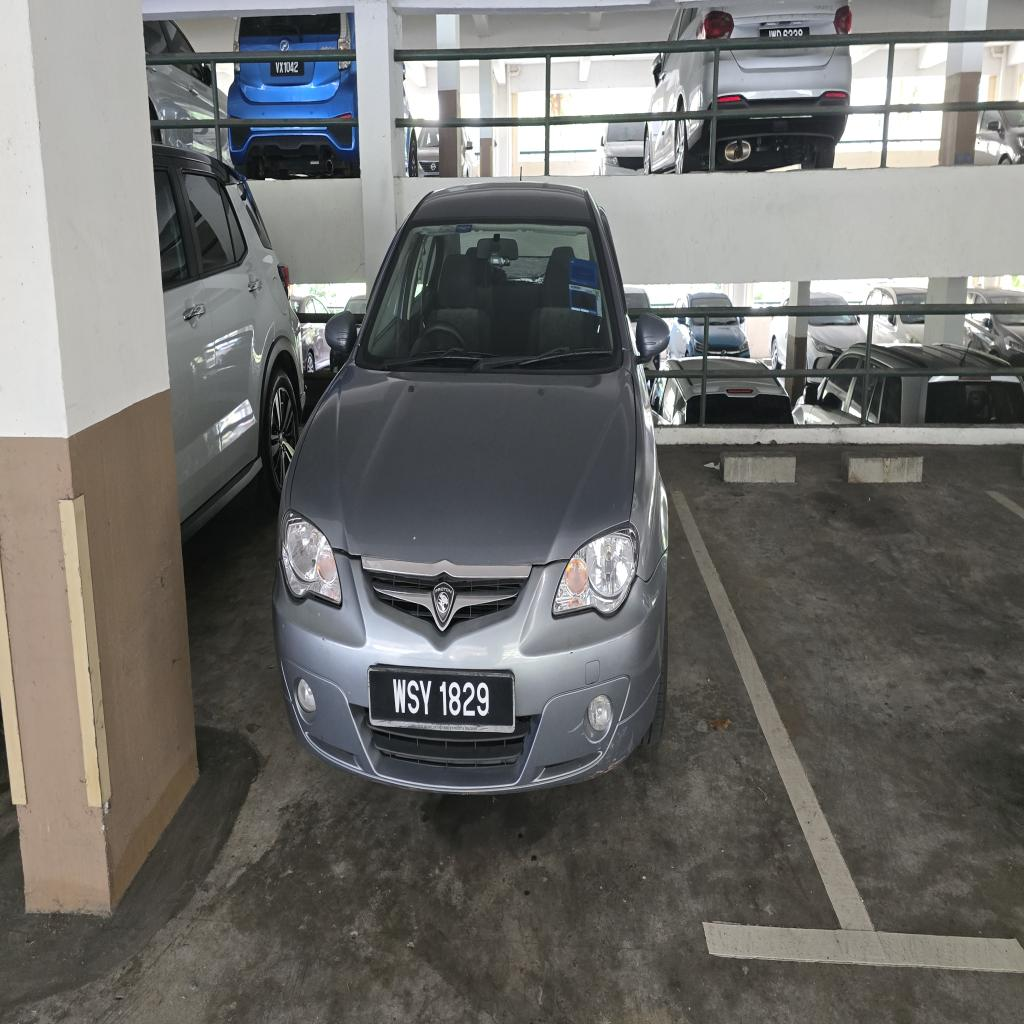car: (274, 183, 667, 792), (228, 13, 358, 178)
car plate: (369, 666, 515, 732), (271, 60, 304, 76)
